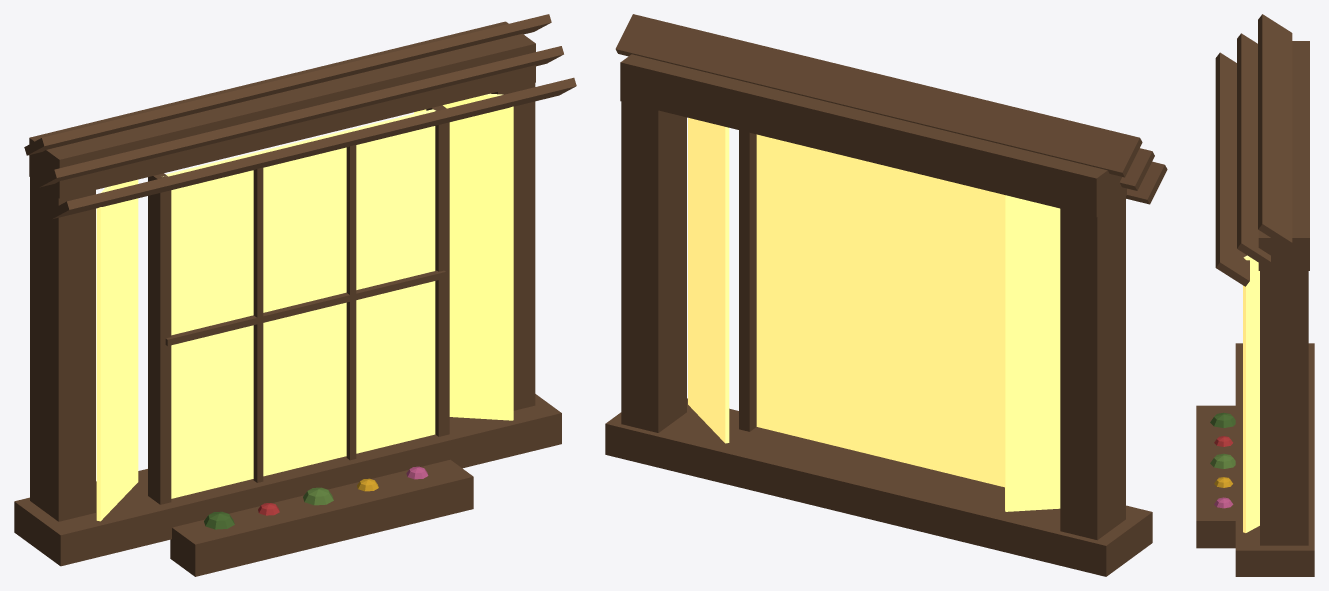
Rendered from SM_Window_TavernBay_02.glb.
3 renders of one model, left to right at view 1: azimuth 30°, elevation 25°; view 2: azimuth 150°, elevation 25°; view 3: azimuth 270°, elevation 25°, orthographic. The views are drawn at different scales.
Visible parts, largest first — view 1: SM_Window_TavernBay_02_GlassCenter, SM_Window_TavernBay_02_Lintel, SM_Window_TavernBay_02_Frame, SM_Window_TavernBay_02_Sill, SM_Window_TavernBay_02_GlassSideR, SM_Window_TavernBay_02_FlowerBox, SM_Window_TavernBay_02_GlassSideL, SM_Window_TavernBay_02_Roof2, SM_Window_TavernBay_02_BayPostL, SM_Window_TavernBay_02_Roof0, SM_Window_TavernBay_02_JambR, SM_Window_TavernBay_02_Roof1 (+4 smaller); view 2: SM_Window_TavernBay_02_GlassCenter, SM_Window_TavernBay_02_Sill, SM_Window_TavernBay_02_Lintel, SM_Window_TavernBay_02_Frame, SM_Window_TavernBay_02_Roof0, SM_Window_TavernBay_02_JambR, SM_Window_TavernBay_02_GlassSideL, SM_Window_TavernBay_02_GlassSideR, SM_Window_TavernBay_02_BayPostR, SM_Window_TavernBay_02_Roof2, SM_Window_TavernBay_02_Roof1; view 3: SM_Window_TavernBay_02_JambR, SM_Window_TavernBay_02_Roof0, SM_Window_TavernBay_02_Sill, SM_Window_TavernBay_02_Roof2, SM_Window_TavernBay_02_Lintel, SM_Window_TavernBay_02_FlowerBox, SM_Window_TavernBay_02_Roof1, SM_Window_TavernBay_02_GlassSideR, SM_Window_TavernBay_02_Plant0, SM_Window_TavernBay_02_Plant2.
Boxes of the visible parts, <box> form: SM_Window_TavernBay_02_GlassCenter: <box>163,109,435,498</box>; SM_Window_TavernBay_02_Lintel: <box>29,21,535,198</box>; SM_Window_TavernBay_02_Frame: <box>30,177,95,521</box>; SM_Window_TavernBay_02_Sill: <box>14,394,561,566</box>; SM_Window_TavernBay_02_GlassSideR: <box>414,93,513,420</box>; SM_Window_TavernBay_02_FlowerBox: <box>170,459,473,576</box>; SM_Window_TavernBay_02_GlassSideL: <box>96,179,138,521</box>; SM_Window_TavernBay_02_Roof2: <box>49,77,576,219</box>; SM_Window_TavernBay_02_BayPostL: <box>148,173,171,504</box>; SM_Window_TavernBay_02_Roof0: <box>24,14,551,155</box>; SM_Window_TavernBay_02_JambR: <box>491,83,535,410</box>; SM_Window_TavernBay_02_Roof1: <box>37,46,563,187</box>; SM_Window_TavernBay_02_GlassCenter: <box>756,134,1004,487</box>; SM_Window_TavernBay_02_Sill: <box>605,398,1152,576</box>; SM_Window_TavernBay_02_Lintel: <box>620,54,1126,217</box>; SM_Window_TavernBay_02_Frame: <box>1060,196,1125,540</box>; SM_Window_TavernBay_02_Roof0: <box>615,14,1142,177</box>; SM_Window_TavernBay_02_JambR: <box>621,101,686,432</box>; SM_Window_TavernBay_02_GlassSideL: <box>1005,195,1060,511</box>; SM_Window_TavernBay_02_GlassSideR: <box>688,117,729,443</box>; SM_Window_TavernBay_02_BayPostR: <box>739,130,756,431</box>; SM_Window_TavernBay_02_Roof2: <box>1126,161,1167,204</box>; SM_Window_TavernBay_02_Roof1: <box>1119,148,1154,190</box>; SM_Window_TavernBay_02_JambR: <box>1260,271,1308,545</box>; SM_Window_TavernBay_02_Roof0: <box>1258,14,1292,248</box>; SM_Window_TavernBay_02_Sill: <box>1235,343,1314,576</box>; SM_Window_TavernBay_02_Roof2: <box>1215,52,1249,286</box>; SM_Window_TavernBay_02_Lintel: <box>1258,41,1309,270</box>; SM_Window_TavernBay_02_FlowerBox: <box>1196,405,1235,548</box>; SM_Window_TavernBay_02_Roof1: <box>1237,33,1270,267</box>; SM_Window_TavernBay_02_GlassSideR: <box>1243,255,1259,532</box>; SM_Window_TavernBay_02_Plant0: <box>1210,412,1235,428</box>; SM_Window_TavernBay_02_Plant2: <box>1210,453,1235,468</box>.
Size of the model in its own units: 1.64 by 1.35 by 0.39.
